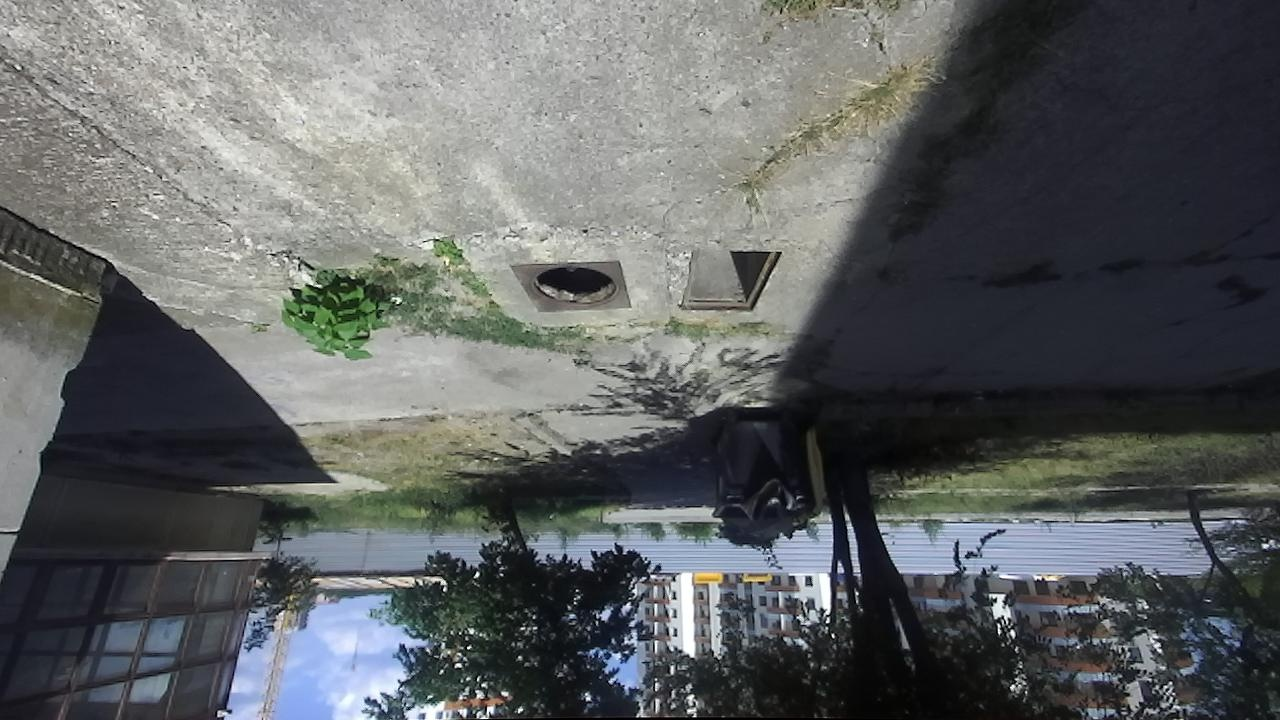drain: (674, 246, 783, 314), (528, 264, 621, 305)
